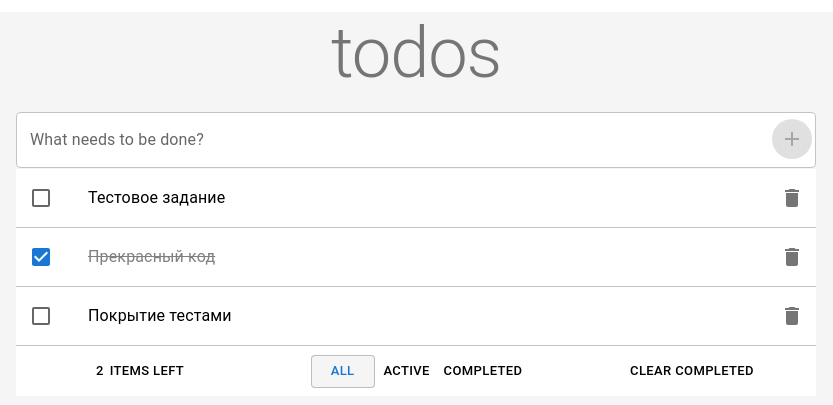
Test: TodoList › should filter tasks by active status
Check: the list is shown, box x1=16 y1=169 x2=816 y2=346
Check: the number of list items is 3, box x1=16 y1=169 x2=816 y2=228; x1=16 y1=228 x2=816 y2=287; x1=16 y1=287 x2=816 y2=346
Click the button with test id "button-active": (407, 371) x1=375 y1=355 x2=439 y2=388
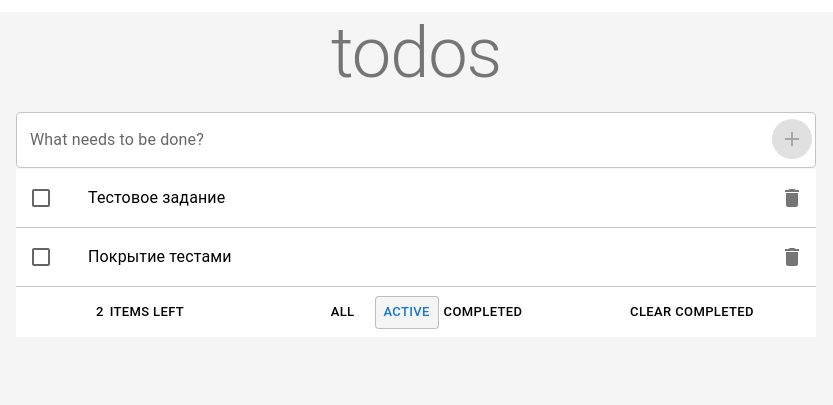
Check: the number of list items is 2, box x1=16 y1=169 x2=816 y2=228; x1=16 y1=228 x2=816 y2=287
